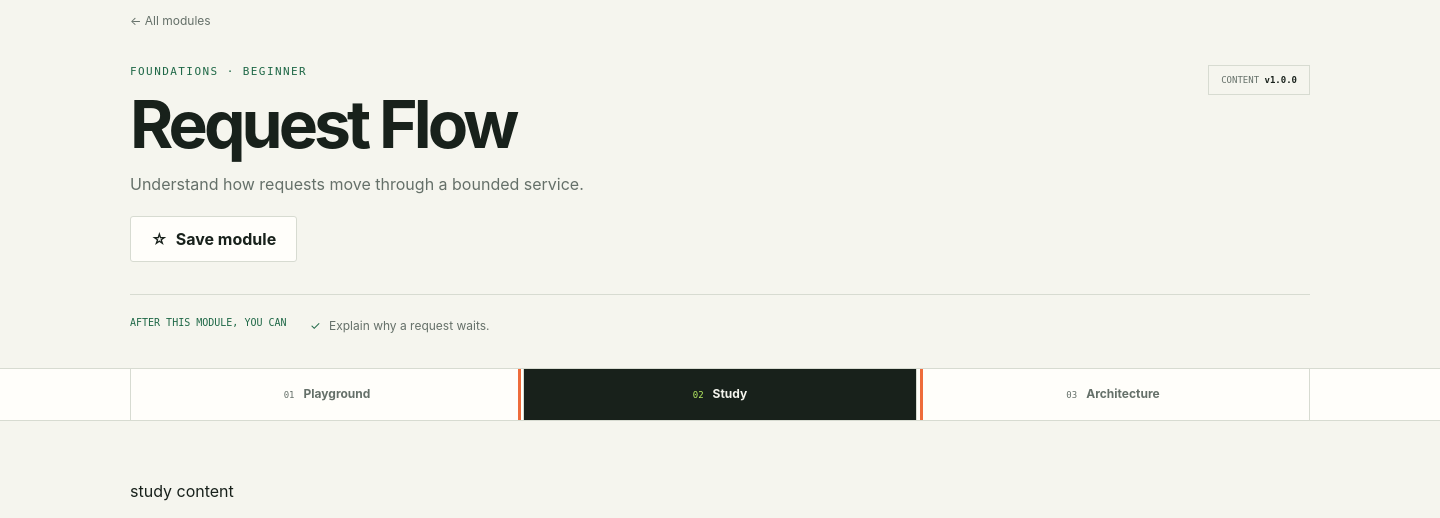
Scenario: ModuleShell › uses manual keyboard activation and connects tabs to the panel
Press ArrowRight in the tab "02Study", box top-left (524, 369), bottom-right (917, 420)
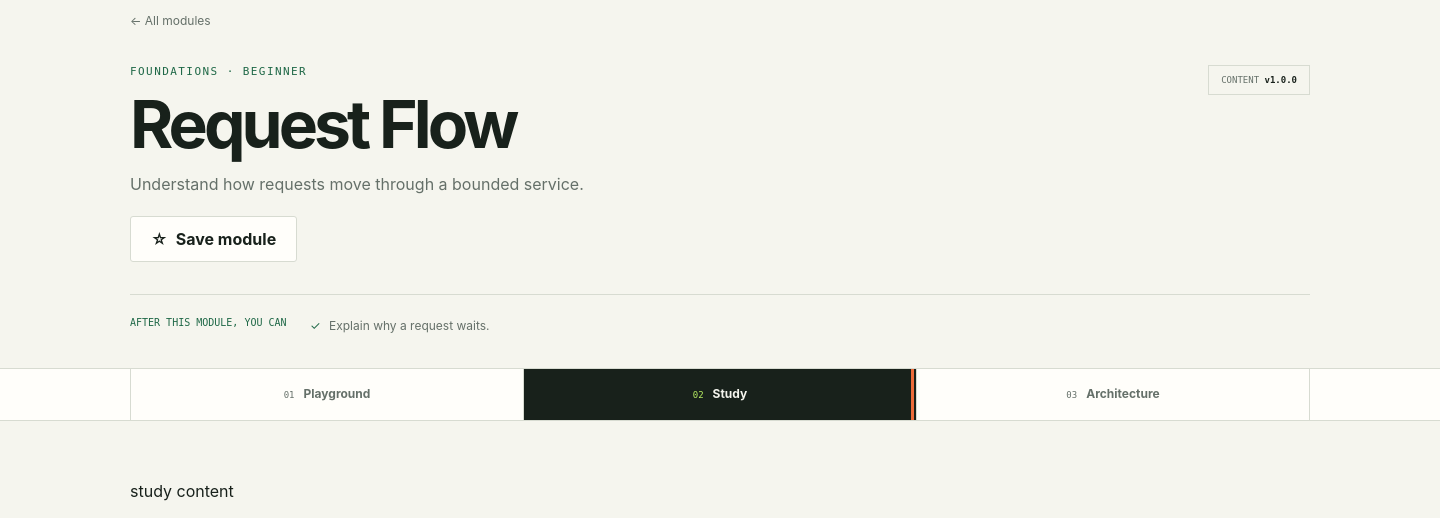
Click the tab "03Architecture" at (1114, 394), box top-left (917, 369), bottom-right (1310, 420)
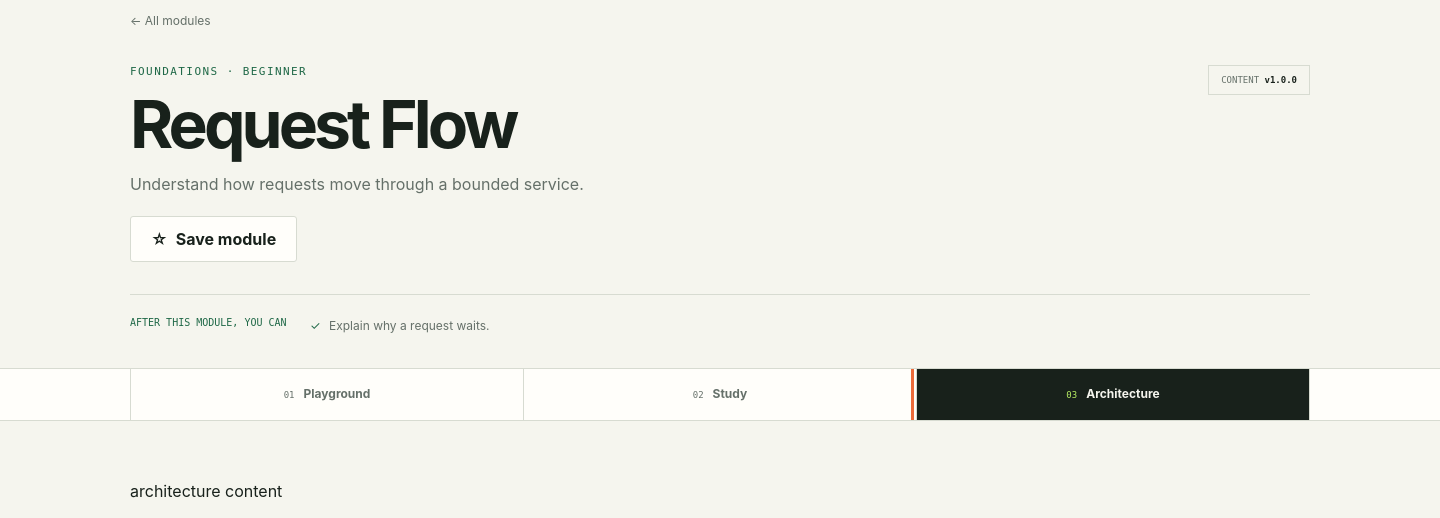
Expected: the text "architecture content" is shown, top-left (130, 481), bottom-right (282, 501)
